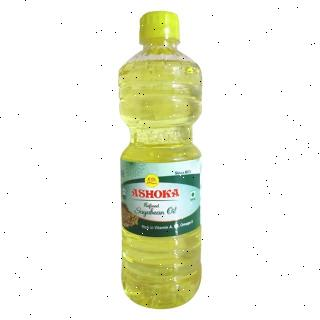Plastic-bottle: (112, 10, 206, 312)
